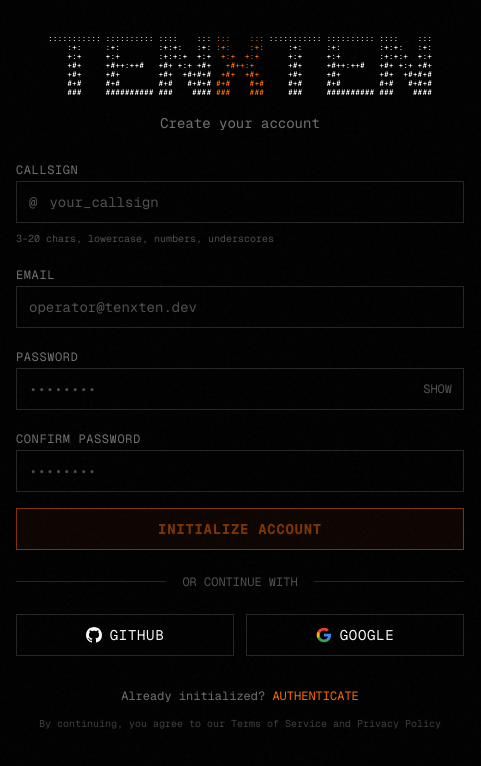
it: Signup Page › should show error for existing email
Step 1. Type "testuser" into the field labelled "Callsign" → (256, 202), box [49,182,463,222]
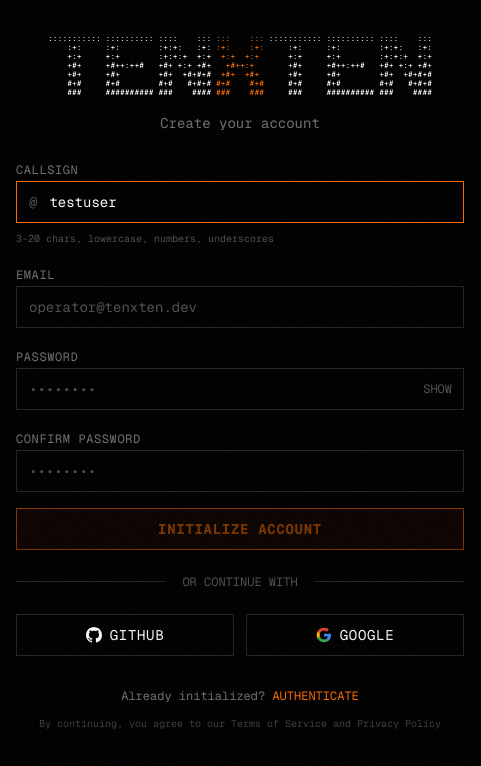
Step 2. Press Tab
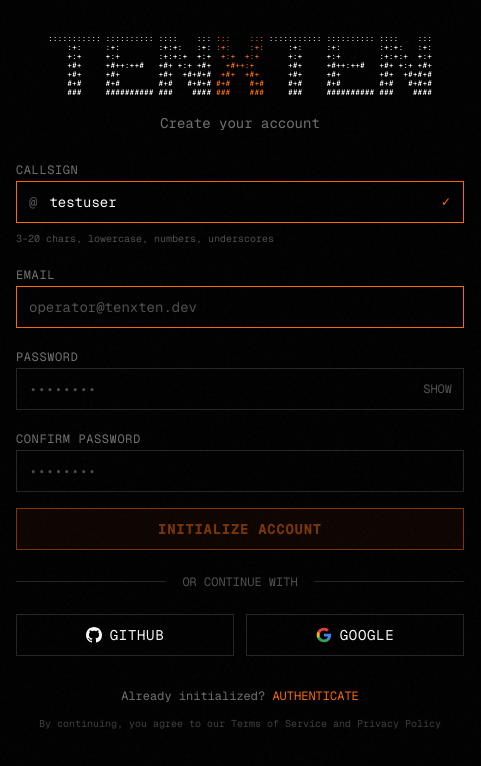
Step 3. Type "existing@example.com" into the field labelled "Email" → (240, 306), box [16,286,464,328]
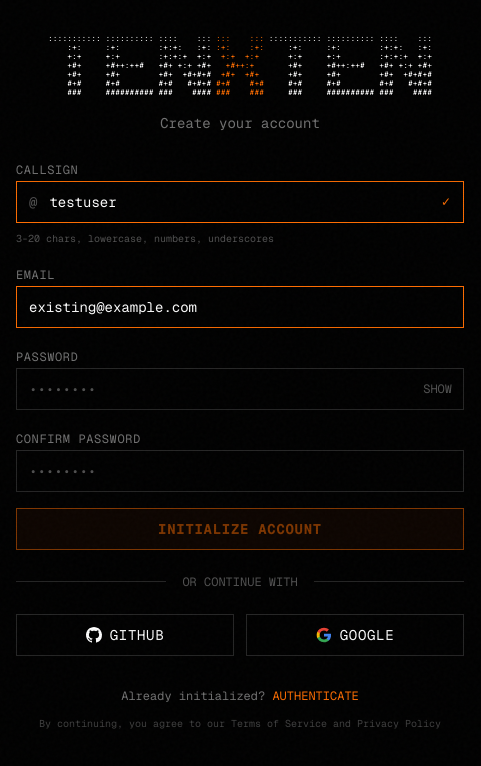
Step 4. Type "Password123!" into the password field labelled "Password" → (240, 388), box [16,368,464,410]
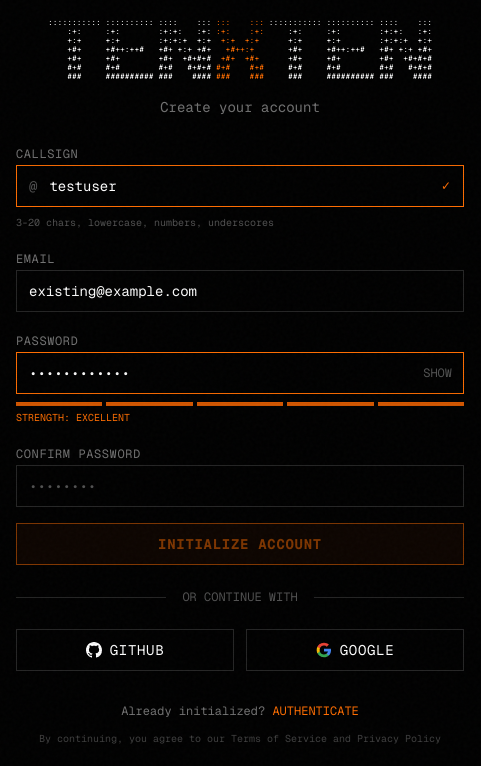
Step 5. Type "Password123!" into the password field labelled "Confirm Password" → (240, 486), box [16,465,464,507]
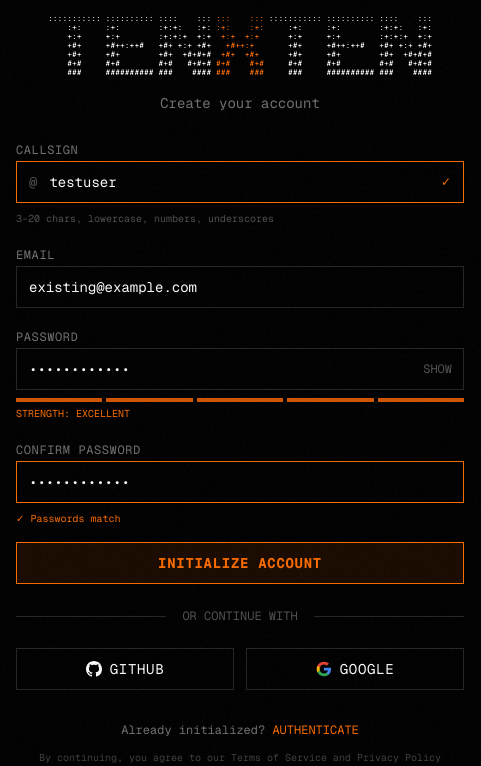
Step 6. Click the button "INITIALIZE ACCOUNT" → click(240, 563), box [16,542,464,584]
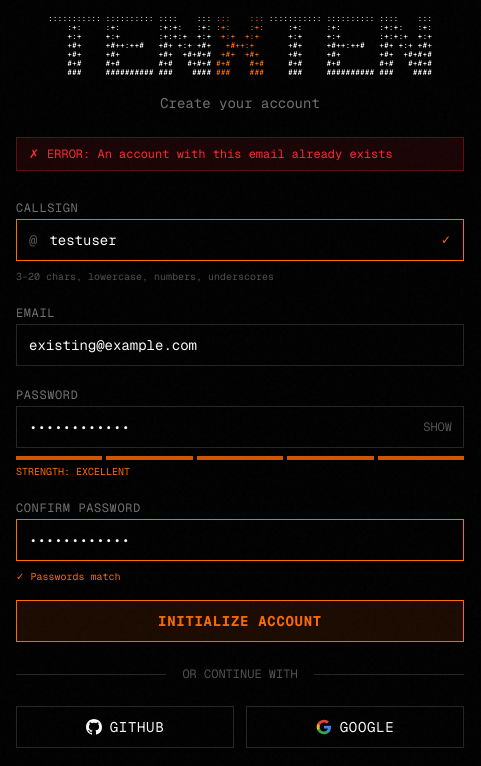
Check: the text "✗ERROR: An account with this email already exists" is shown, box [16,137,464,171]
